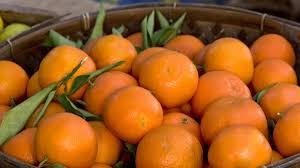orange: (200, 95, 272, 148), (140, 49, 199, 104), (107, 86, 165, 141), (36, 116, 97, 167), (134, 127, 203, 168), (205, 38, 255, 86)
